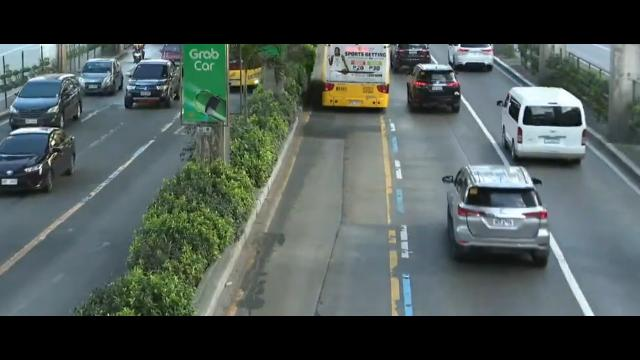bus: (317, 45, 389, 113), (229, 46, 264, 93)
car: (444, 165, 550, 266), (0, 123, 81, 196), (8, 76, 81, 133), (407, 64, 462, 115), (80, 59, 123, 99), (446, 46, 496, 71), (394, 45, 430, 73)
motorcycle: (130, 43, 146, 65)
pickup-truck: (123, 59, 180, 109)
van: (496, 86, 587, 162)
